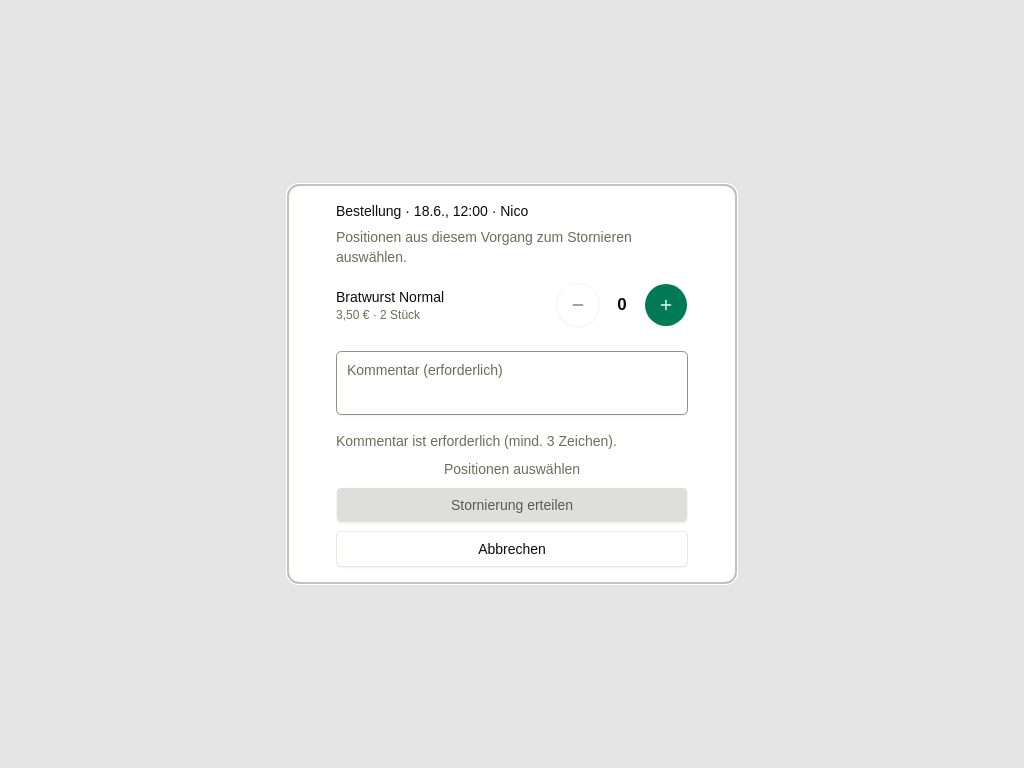
HistorieStornierungDrawer › nennt den Sperrgrund neben der Aktion und gibt frei, sobald er erfüllt ist
Expected: the button "Stornierung erteilen" is disabled, [336,487,688,523]
Expected: the text "Positionen auswählen" is shown, [444,461,580,477]
Click the button named "hinzufügen": (666, 305) [644,283,688,327]
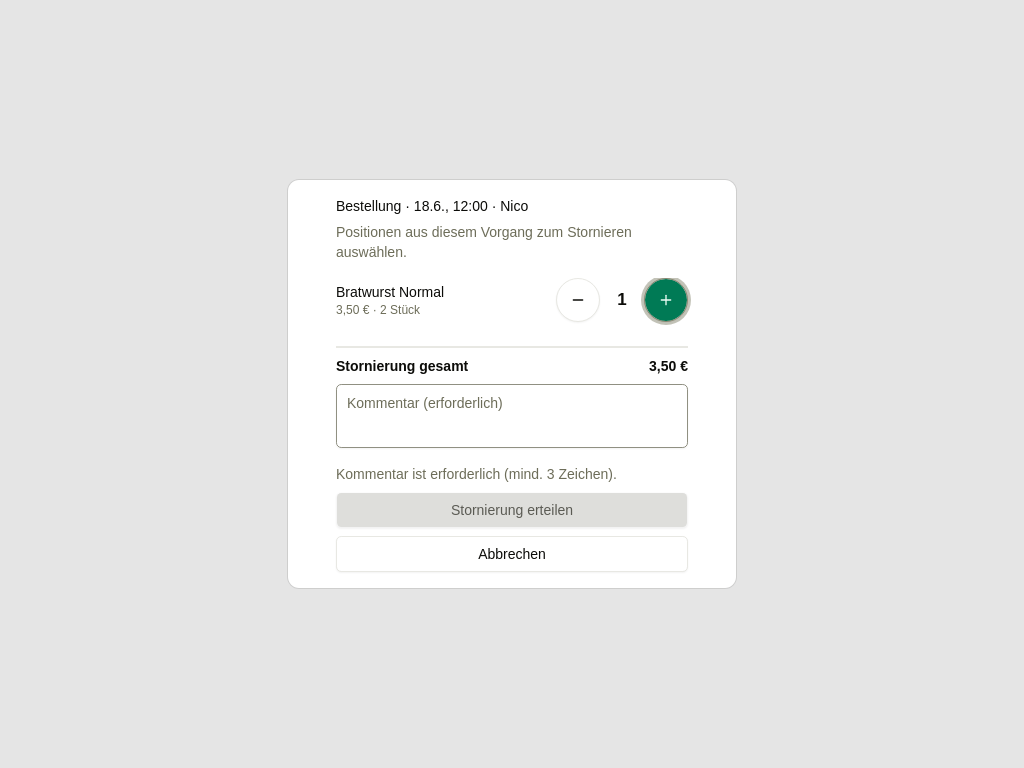
Expected: the text "Kommentar ist erforderlich (mind. 3 Zeichen)." is shown, [336,466,617,482]
Expected: the text "Positionen auswählen" is gone
In the text box with placeholder "Kommentar (erforderlich)": (512, 416) [336,384,688,448], type "Falsch bestellt"
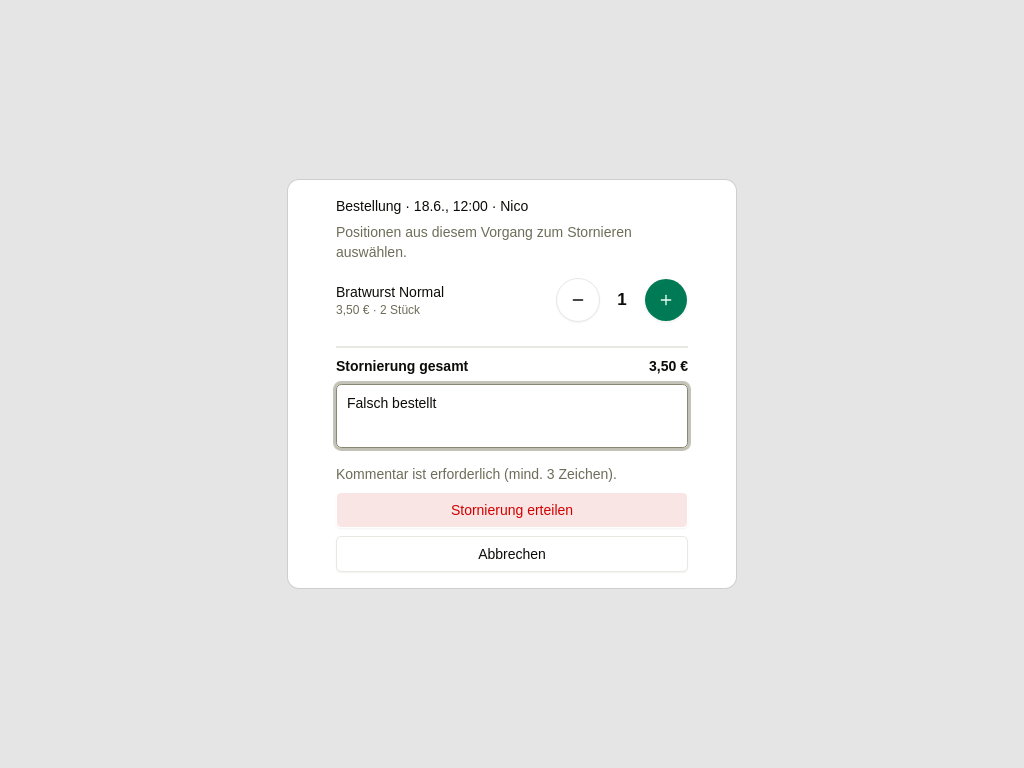
Expected: the button "Stornierung erteilen" is enabled, [336,492,688,528]
